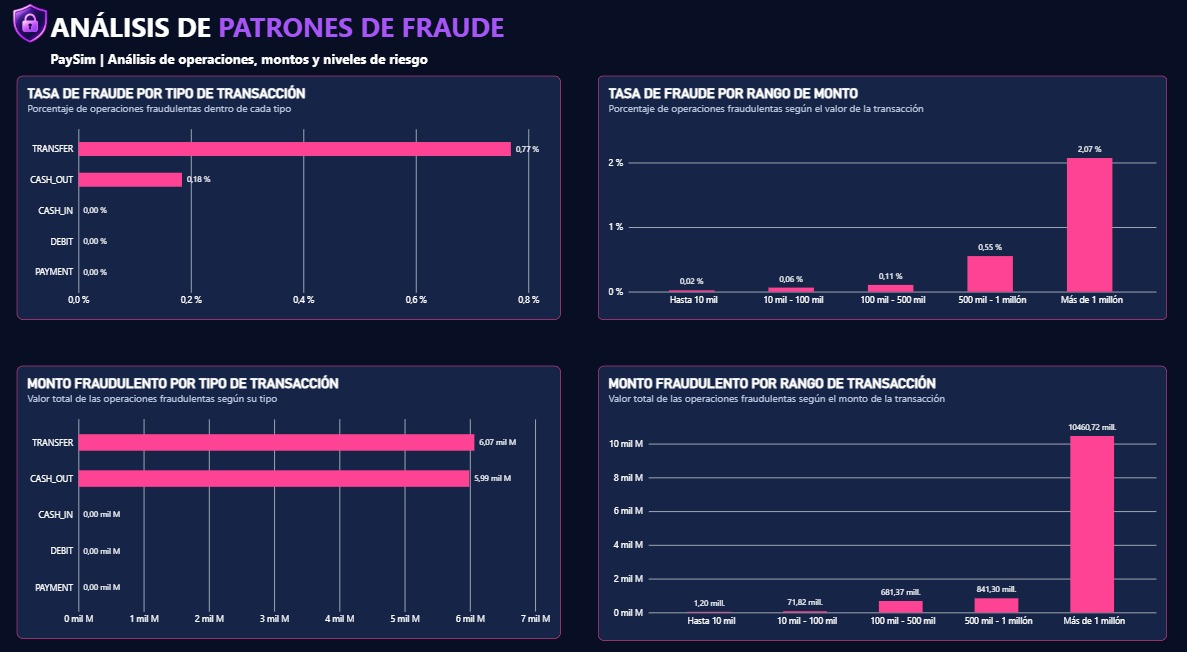

The dashboard page shown, as its layout file describes it:
{"tool":"powerbi","page":{"name":"02 - Patrones de Fraude","canvas":[1920,1080],"ordinal":1},"visuals":[{"type":"textbox","box":[84,18,1028,96],"z":0},{"type":"image","box":[0,0,102,84],"z":1000},{"type":"textbox","box":[84,84,1028,44],"z":2000},{"type":"clusteredBarChart","title":"TASA DE FRAUDE POR TIPO DE TRANSACCIÓN","fields":{"Category":["fraude_por_tipo.tipo_transaccion"],"Y":["Sum(fraude_por_tipo.tasa_fraude)"]},"box":[30.8,126.2,870.8,390.8],"z":3000},{"type":"columnChart","title":"TASA DE FRAUDE POR RANGO DE MONTO","fields":{"Category":["fraude_por_rango.rango_monto"],"Y":["Sum(fraude_por_rango.tasa_fraude)"]},"box":[960,126.2,910.8,390.8],"z":4000},{"type":"clusteredBarChart","title":"MONTO FRAUDULENTO POR TIPO DE TRANSACCIÓN","fields":{"Category":["fraude_por_tipo.tipo_transaccion"],"Y":["Sum(fraude_por_tipo.monto_fraudulento)"]},"box":[30.8,590.8,870.8,436.9],"z":5000},{"type":"columnChart","title":"MONTO FRAUDULENTO POR RANGO DE TRANSACCIÓN","fields":{"Category":["fraude_por_rango.rango_monto"],"Y":["Sum(fraude_por_rango.monto_fraudulento)"]},"box":[960,590.8,910.8,440],"z":6000}]}

Visuals, with their boxes in screenshot pixels (x1, y1, x2, y2), scaled from the page's 1920x1080 canvas onto the 1187x652 screenshot:
textbox: crop(52, 11, 687, 69)
image: crop(0, 0, 63, 51)
textbox: crop(52, 51, 687, 77)
"TASA DE FRAUDE POR TIPO DE TRANSACCIÓN" clusteredBarChart: crop(19, 76, 557, 312)
"TASA DE FRAUDE POR RANGO DE MONTO" columnChart: crop(594, 76, 1157, 312)
"MONTO FRAUDULENTO POR TIPO DE TRANSACCIÓN" clusteredBarChart: crop(19, 357, 557, 620)
"MONTO FRAUDULENTO POR RANGO DE TRANSACCIÓN" columnChart: crop(594, 357, 1157, 622)
